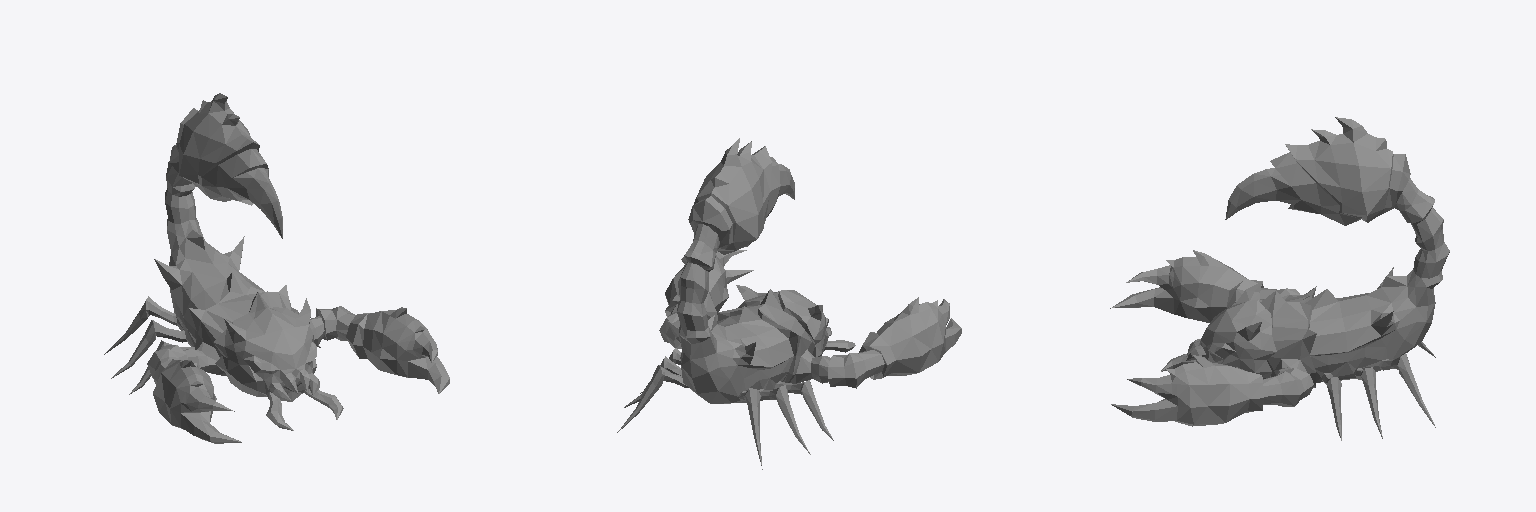
File: googlepoly.obj
3 renders of one model, left to right at view 1: azimuth 30°, elevation 25°; view 2: azimuth 150°, elevation 25°; view 3: azimuth 270°, elevation 25°, orthographic.
Visible parts, largest first — view 1: 01, KNOCK; view 2: 01, KNOCK; view 3: 01, KNOCK.
Part boxes in pixels (bbox=[...]): 01: bbox=[104, 144, 449, 443]; KNOCK: bbox=[176, 93, 282, 238]; 01: bbox=[617, 232, 961, 469]; KNOCK: bbox=[688, 138, 794, 254]; 01: bbox=[1110, 184, 1449, 440]; KNOCK: bbox=[1225, 117, 1414, 225].
Bounding box in the file's own units: 2.03 × 2.06 × 2.28.